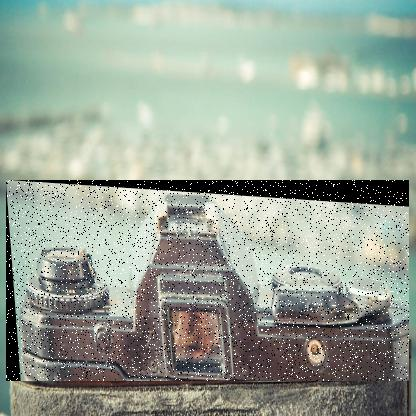Camera: (7, 181, 411, 383)
